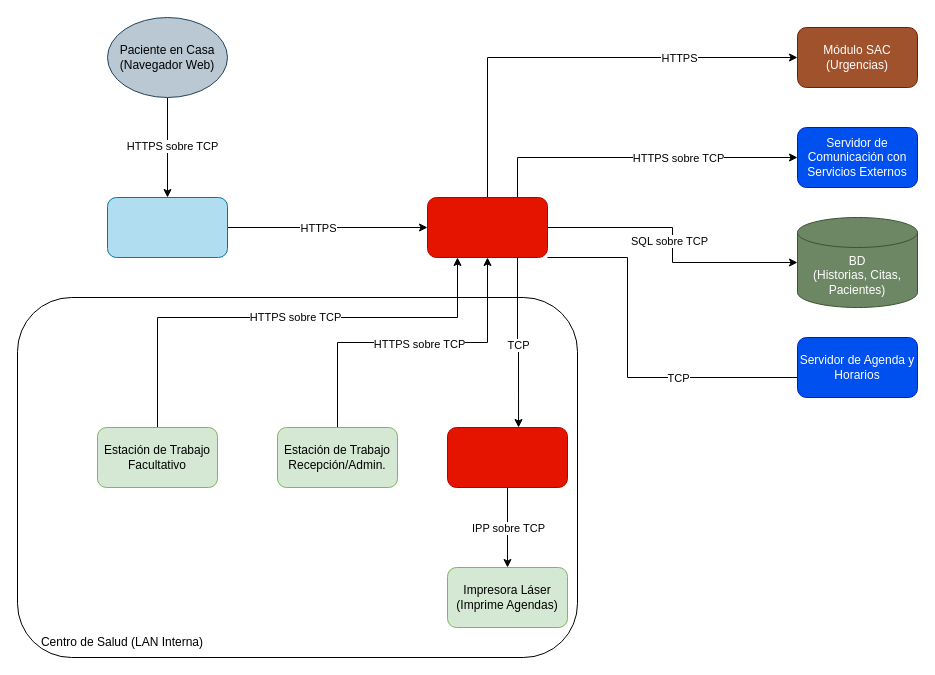
Image size: 935x675. Some labels were removed from this diagram. The shapes that lost their labels are listed below. From the top down, each one's centre as x and y in pixels, then its label:
pixel 167 227: Servidor Web (Zona DMZ)
pixel 487 227: Servidor Aplicación (Lógica de Negocio)
pixel 507 457: Servidor Departamento
